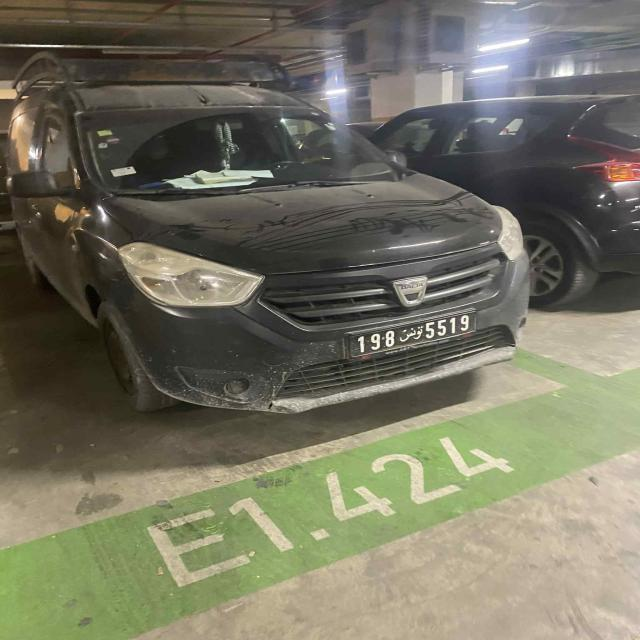licence plate: (351, 313, 476, 357)
